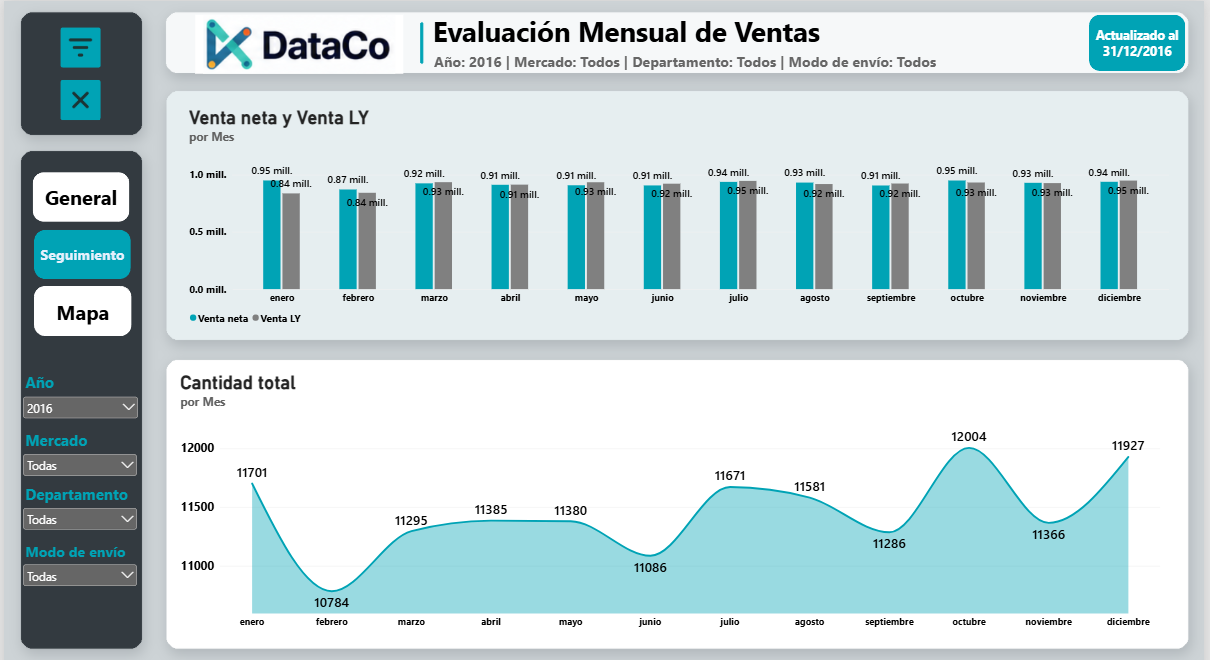

The dashboard page shown, as its layout file describes it:
{"tool":"powerbi","page":{"name":"Seguimiento","canvas":[1920,1080],"ordinal":2},"visuals":[{"type":"shape","box":[46.2,273.8,154.6,79.2],"z":0},{"type":"shape","box":[47,366,155,79],"z":1000},{"type":"shape","box":[47,456,156,80],"z":2000},{"type":"actionButton","title":"Btn_close","box":[90.8,125.7,65,65],"z":3000},{"type":"actionButton","title":"Btn_filter","box":[90.8,42.3,65,65],"z":4000},{"type":"clusteredColumnChart","fields":{"Category":["Dim_Calendario.Mes"],"Y":["Medidas_Venta_Neta.Suma Venta neta","Medidas_Venta_Neta.Suma Venta LY"]},"box":[280,154,1600,384],"z":6000},{"type":"lineChart","fields":{"Y":["Sum(Fact_Ventas_Envios.Cantidad)"],"Category":["Dim_Calendario.Fecha.Variación.Jerarquía de fechas.Mes"]},"box":[266,578,1600,446],"z":7000},{"type":"image","box":[305.8,22.5,332.5,94.2],"z":9000},{"type":"shape","box":[1735.6,24.4,154.4,90],"z":10000},{"type":"actionButton","box":[673.8,10,1070,77.5],"z":11000},{"type":"actionButton","box":[676.2,71.2,1210,50],"z":12000}]}

Visuals, with their boxes on the page's 1920x1080 design canvas (x1, y1, x2, y2). These are canvas units, not pixel positions in the 1210x660 screenshot, which may show the page scaled, cropped or inside an application window:
shape: (46, 274, 201, 353)
shape: (47, 366, 202, 445)
shape: (47, 456, 203, 536)
"Btn_close" actionButton: (91, 126, 156, 191)
"Btn_filter" actionButton: (91, 42, 156, 107)
clusteredColumnChart - Dim_Calendario.Mes x Medidas_Venta_Neta.Suma Venta neta: (280, 154, 1880, 538)
lineChart - Sum(Fact_Ventas_Envios.Cantidad) x Dim_Calendario.Fecha.Variación.Jerarquía de fechas.Mes: (266, 578, 1866, 1024)
image: (306, 22, 638, 117)
shape: (1736, 24, 1890, 114)
actionButton: (674, 10, 1744, 88)
actionButton: (676, 71, 1886, 121)
